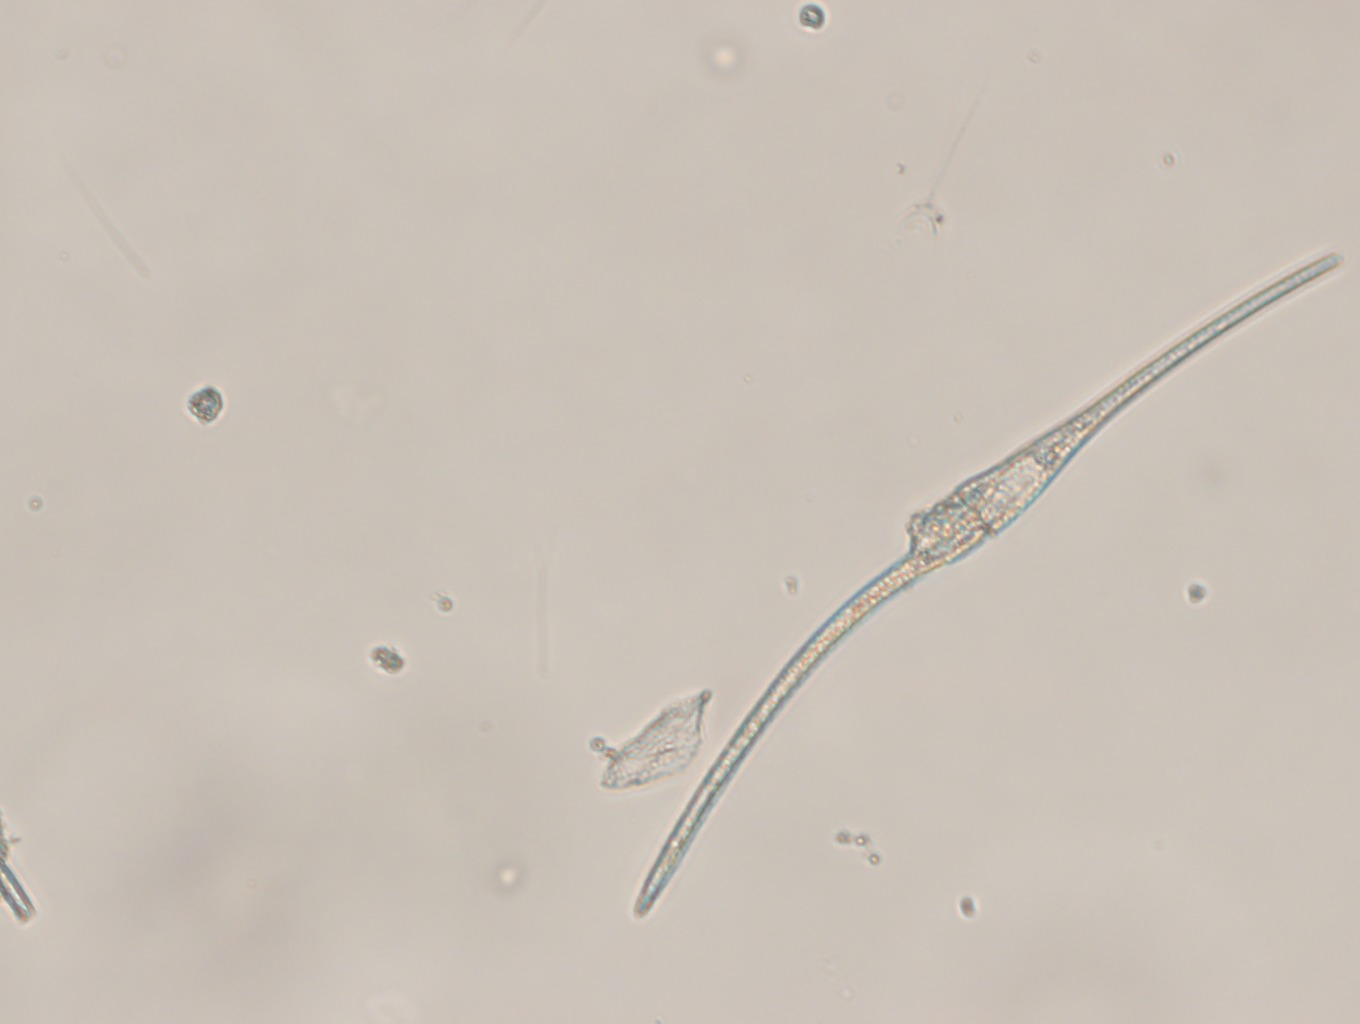ceratium fusus: (628, 244, 1346, 922)
